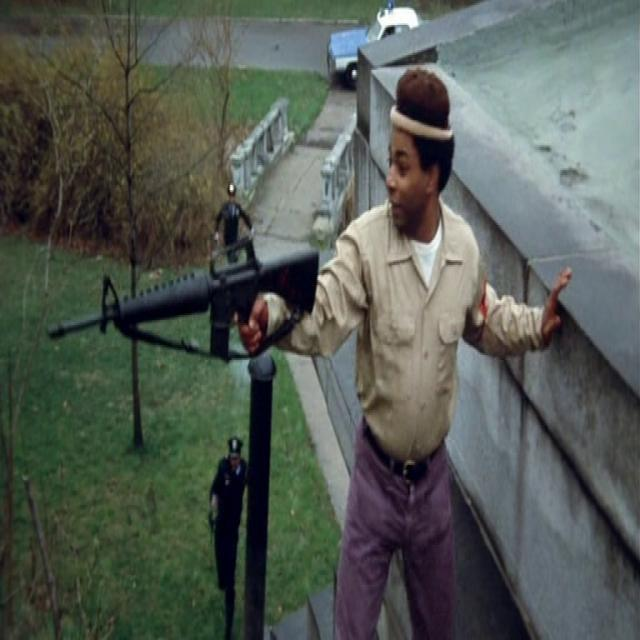gun-knife-thesis - v11 Yolov5 augmented: (44, 198, 320, 400)
